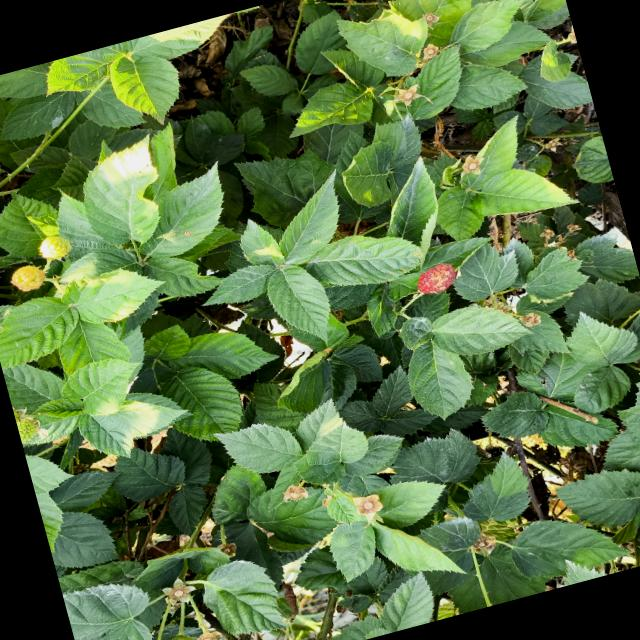naranja: (417, 263, 456, 293)
verde: (12, 407, 48, 443), (11, 265, 45, 291), (39, 235, 72, 259)
